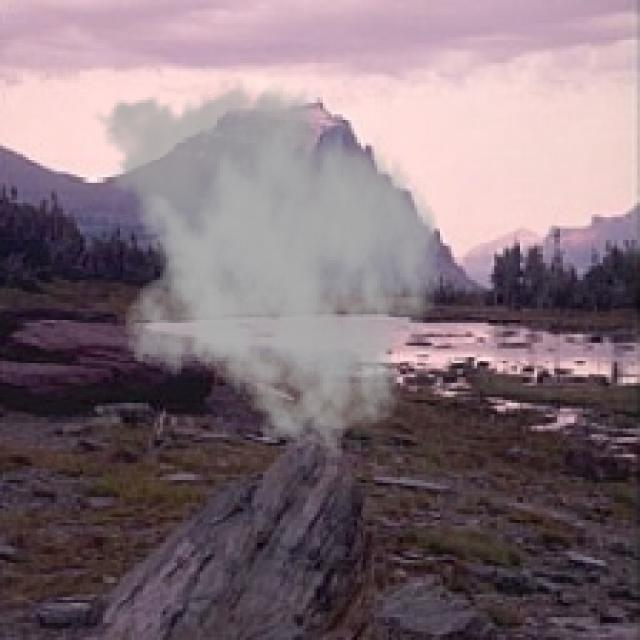smoke: (88, 74, 443, 460)
